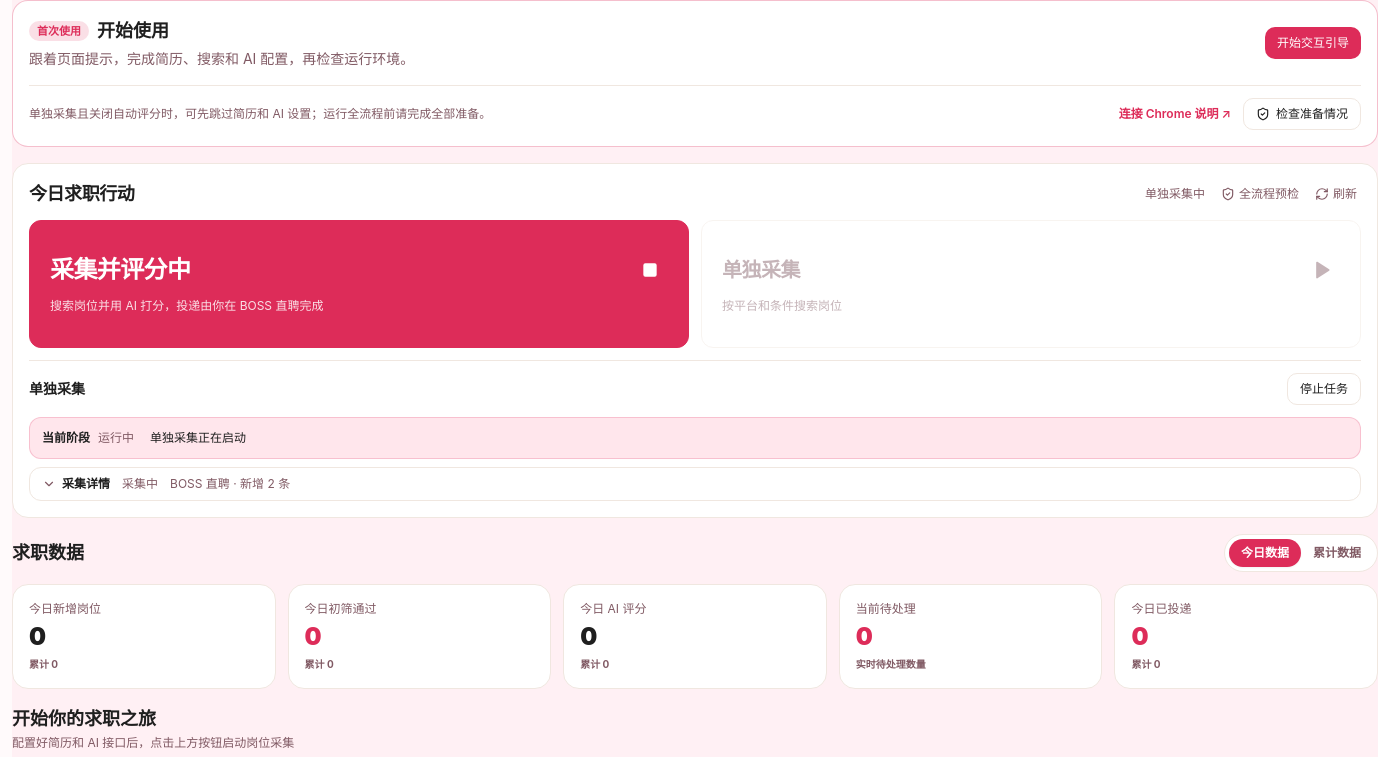
Scenario: DashboardPage workbench task panel › groups all collection counters with separate parsing and saving failure records
The width and height of the screenshot is (1378, 757).
Click the text "采集详情": (76, 484) 42,476 -> 110,492
(page scrolled)
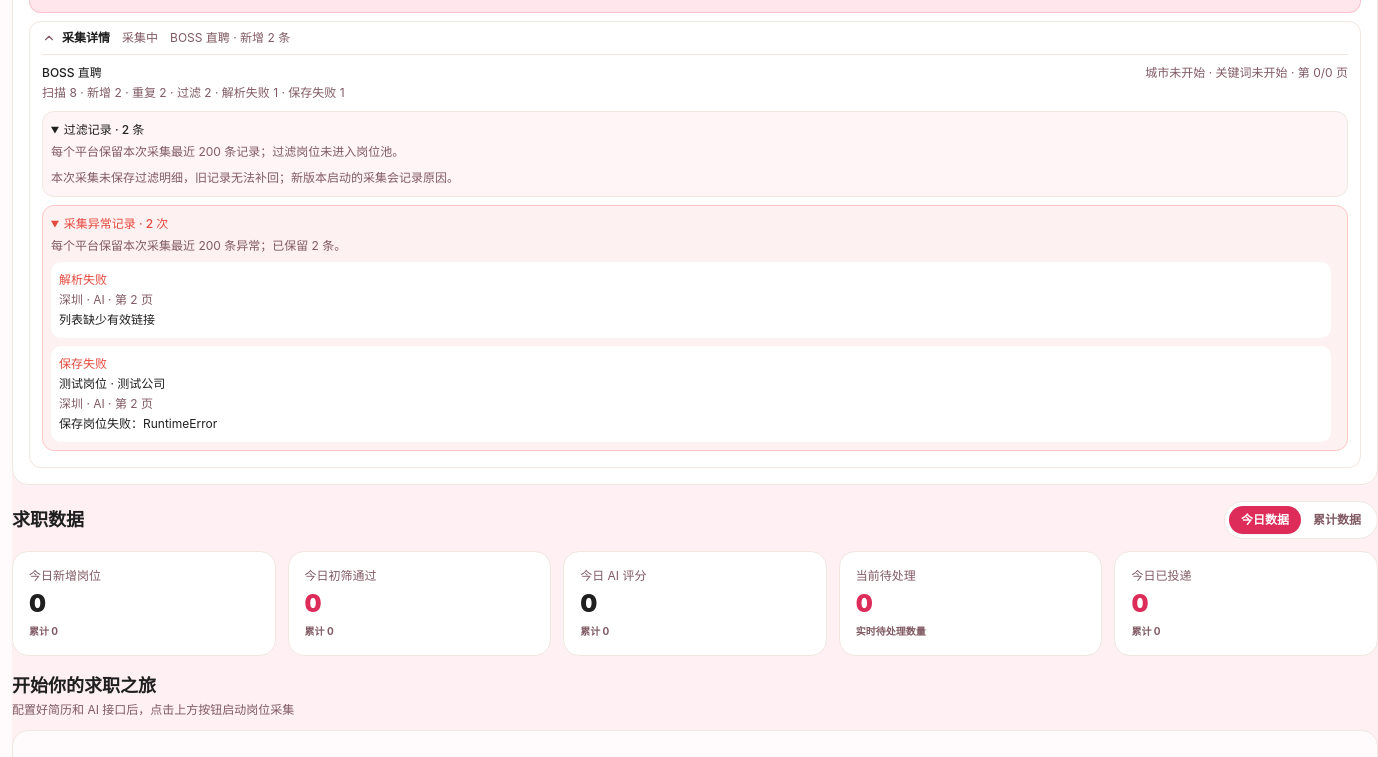
Expected: the text "扫描 8 · 新增 2 · 重复 2 · 过滤 2 · 解析失败 1 · 保存失败 1" is shown, 42,85 -> 345,100
Expected: the text "解析失败" is shown, 59,272 -> 107,287
Expected: the text "保存失败" is shown, 59,356 -> 107,371
